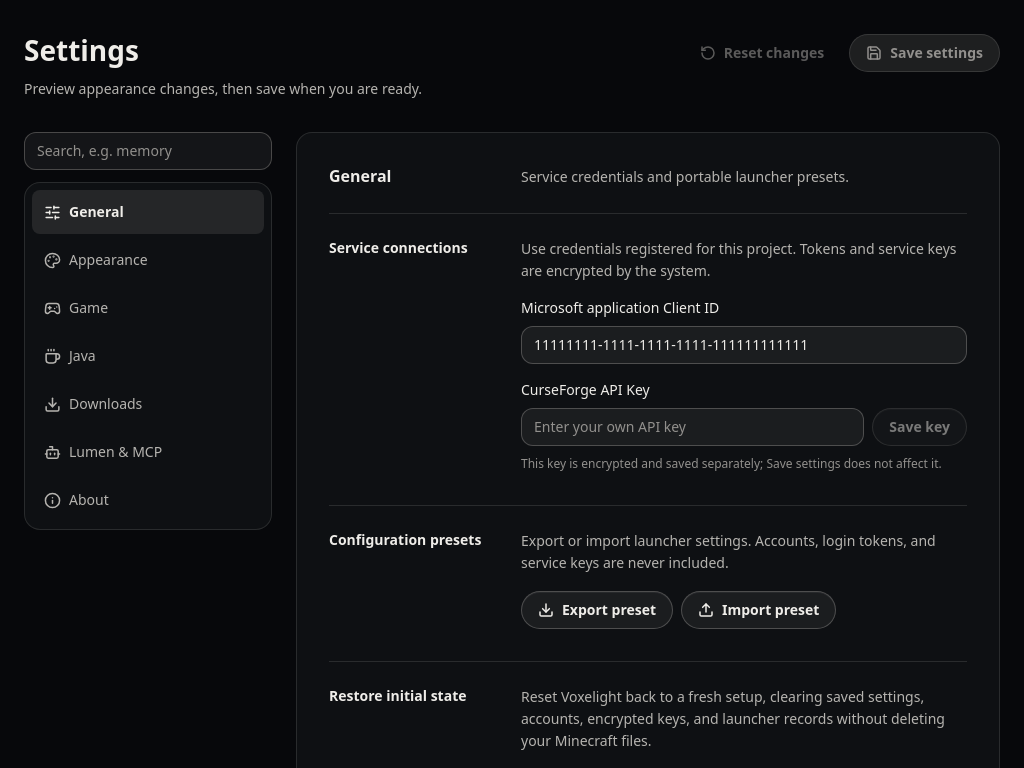
Scenario: global settings › shows an actionable rejection when inheriting a TLS proxy
The width and height of the screenshot is (1024, 768).
Click the button "Downloads". click: {"x": 148, "y": 404}
box: [32,382,264,426]
(page scrolled)
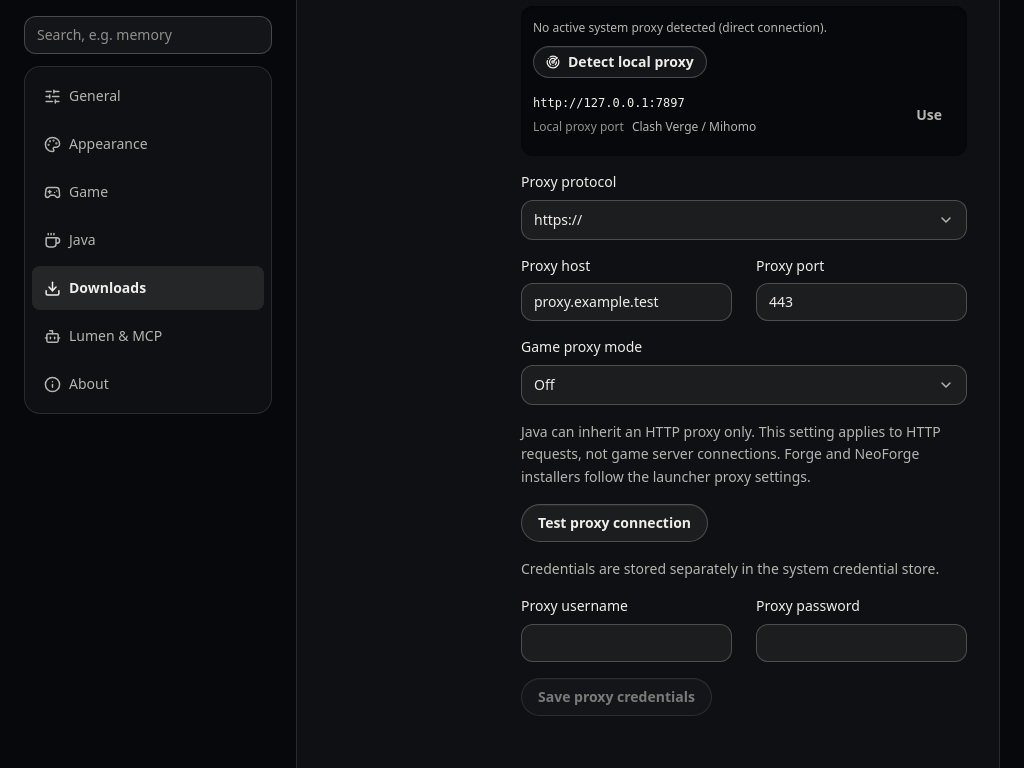
Click the dropdown labelled "Off". click: {"x": 544, "y": 385}
box: [522,366,966,404]
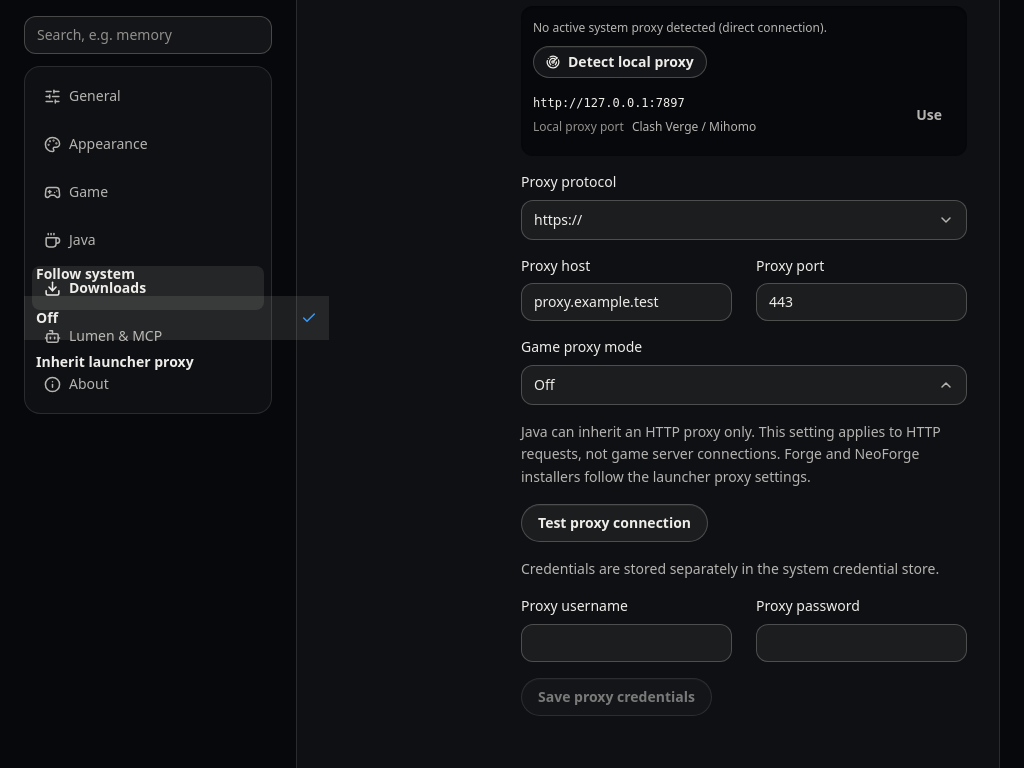
Click the option "Inherit launcher proxy". click: {"x": 115, "y": 362}
box: [36,352,194,371]
(page scrolled)
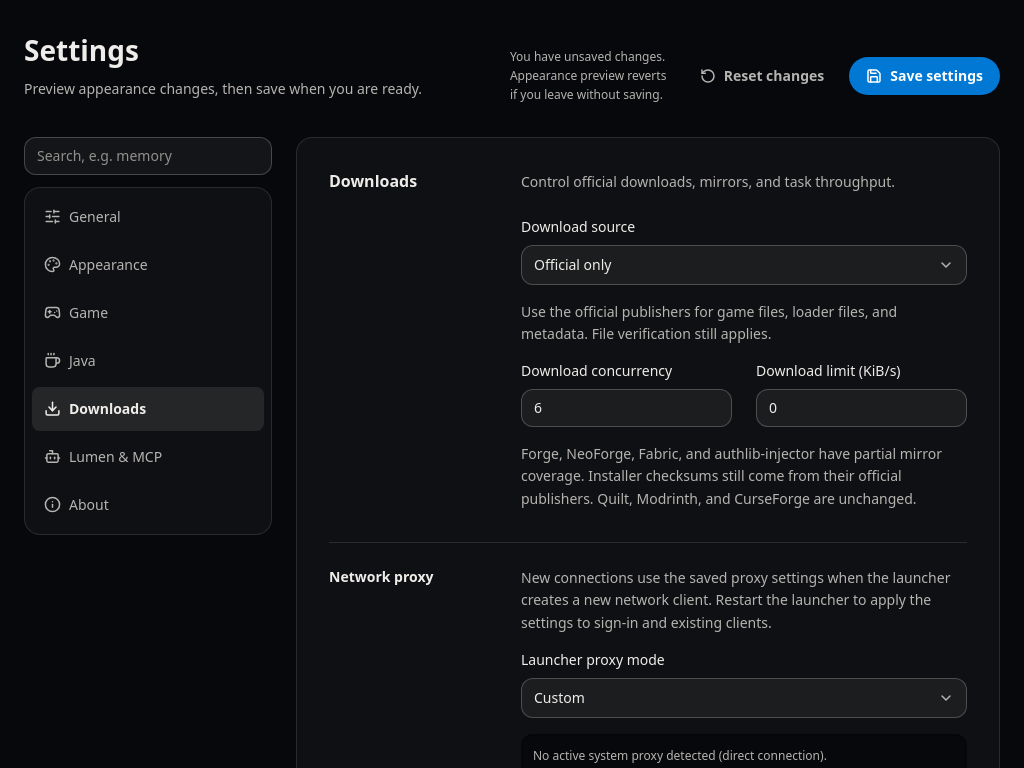
Click the button "Save settings". click: {"x": 925, "y": 76}
box: [849,57,1000,95]
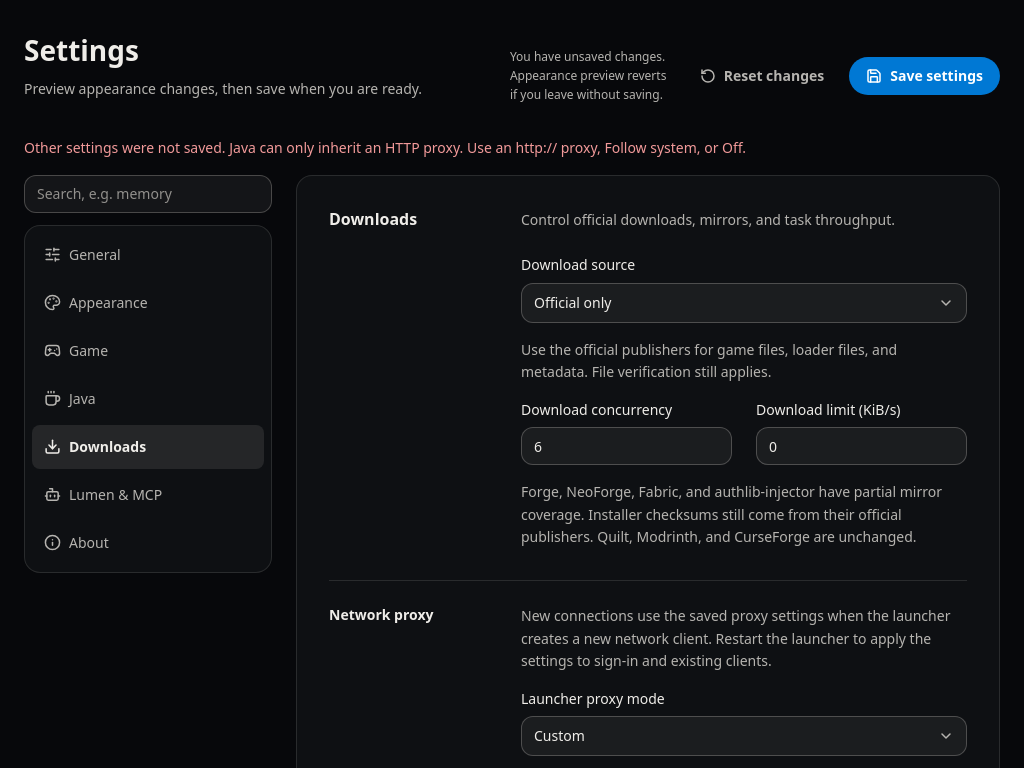
Result: the message that starts with "Other settings were not saved." shows "Use an http:// proxy, Follow system, or Off." at [229,138,746,157]
